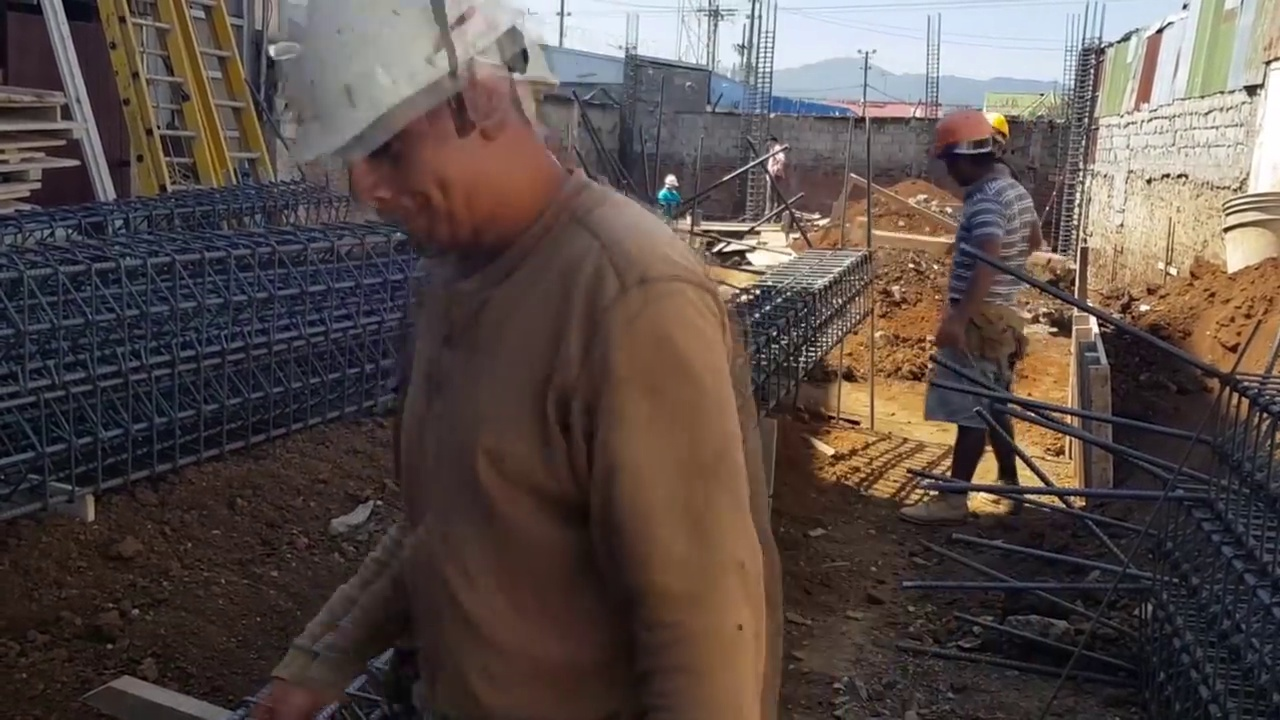helmet: (261, 1, 558, 182), (930, 108, 991, 155), (985, 111, 1010, 140), (664, 174, 679, 188)
helmet-off: (762, 135, 781, 151)
helmet-on: (265, 0, 587, 277), (929, 108, 1010, 190), (663, 173, 679, 192)
person: (250, 0, 793, 720), (902, 105, 1045, 538), (762, 136, 791, 224), (653, 173, 682, 218)
